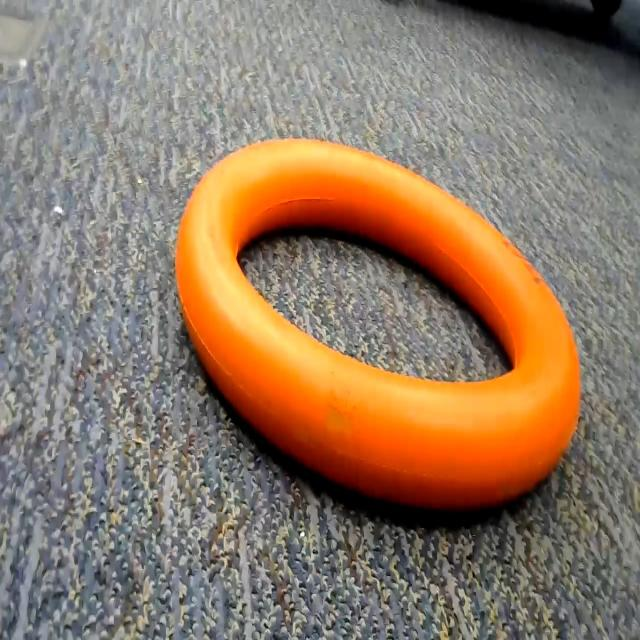note: (180, 117, 599, 524)
